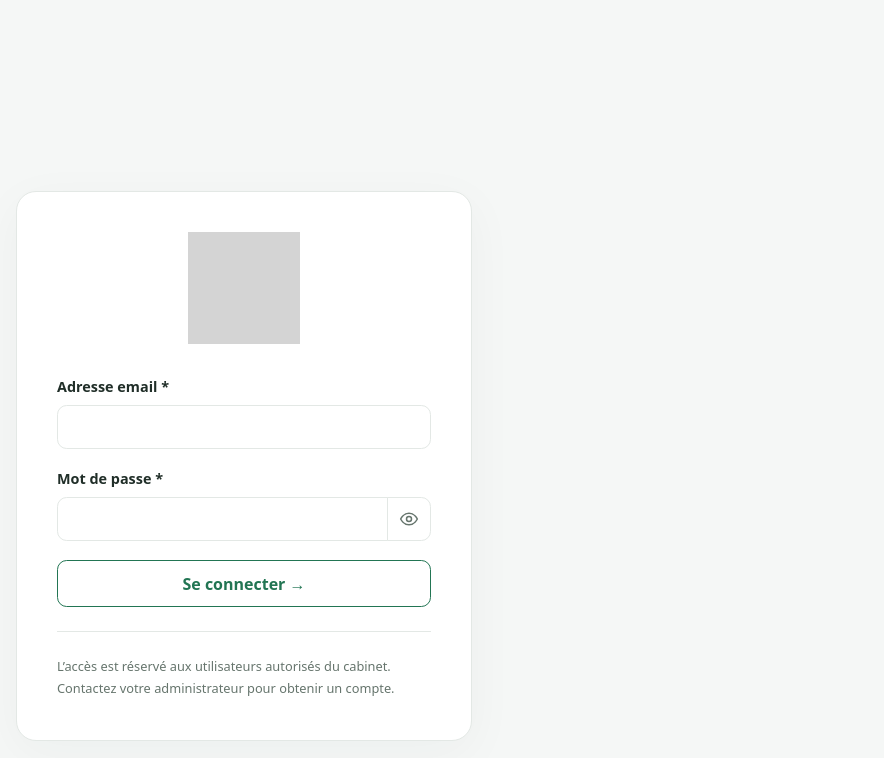
Test: connexion avec labels et erreurs françaises
The width and height of the screenshot is (884, 758).
Type "test@example.invalid" into the field labelled "Adresse email *".
click(244, 427); type("test@example.invalid")  # box [57,405,431,449]
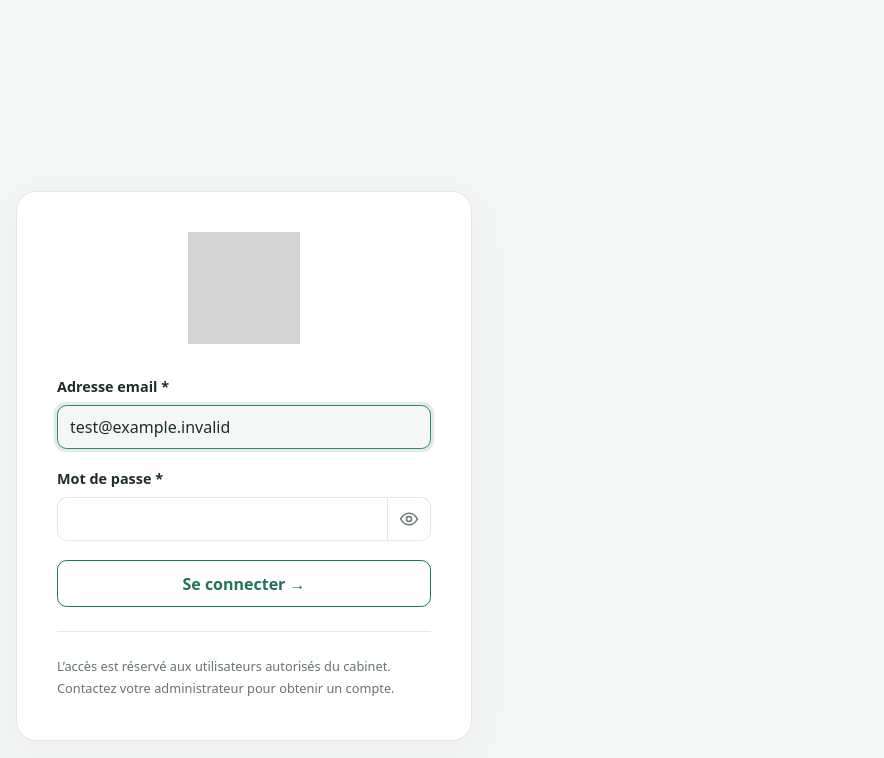
Type "test-password" into the password field labelled "Mot de passe *".
click(222, 519); type("test-password")  # box [57,497,388,541]
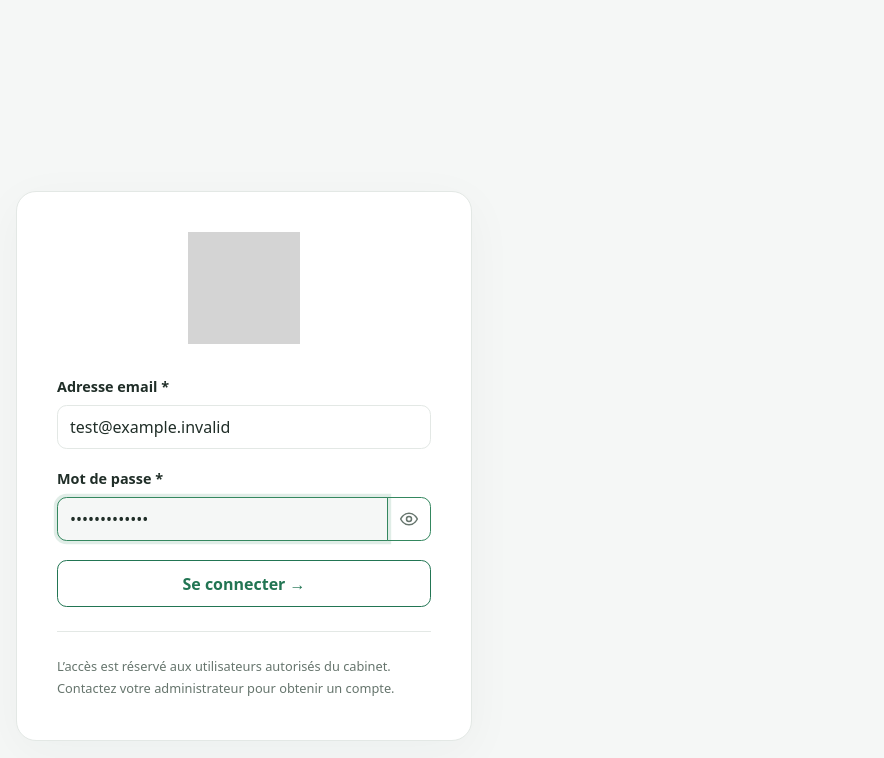
Click the button "Se connecter →".
click(244, 584)  # box [57,560,431,607]
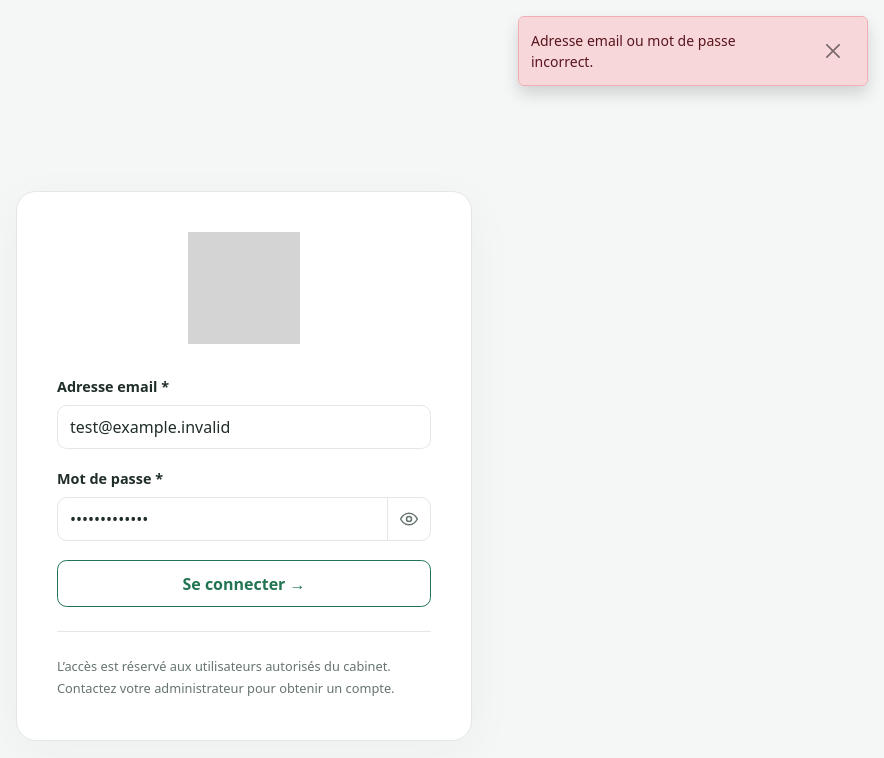
Check: the message reads "Adresse email ou mot de passe incorrect.", box [531,31,736,71]
